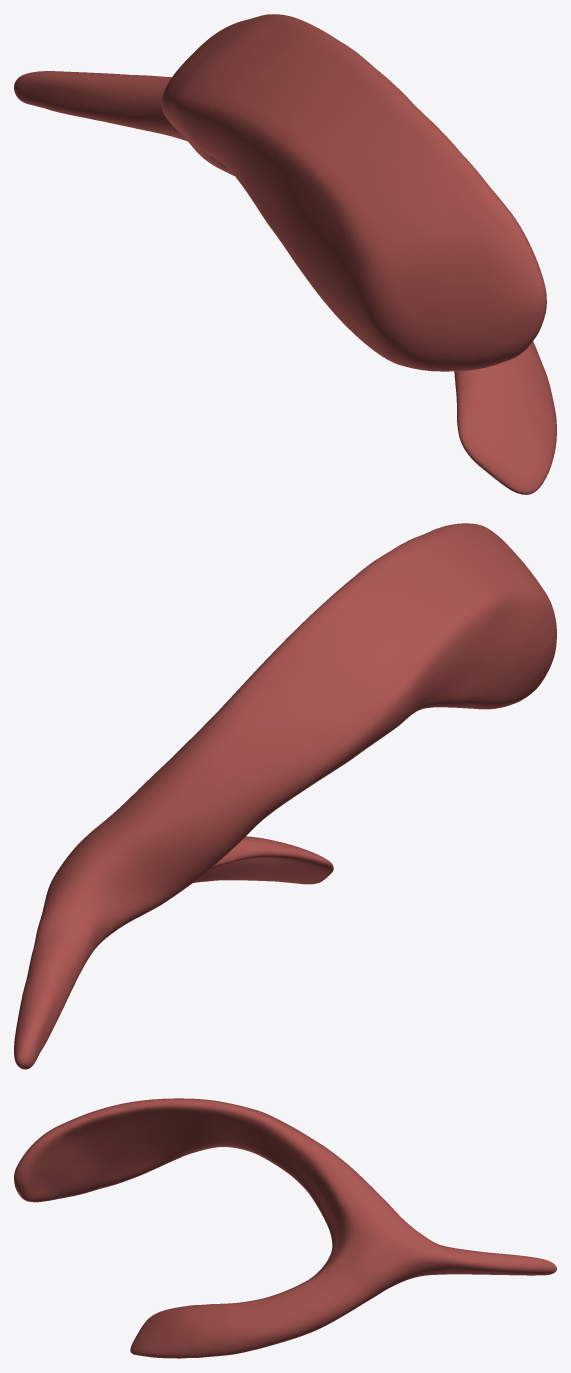
Rendered from FMA78450.glb.
3 views of the same model, one above another, from view 1: azimuth 30°, elevation 25°; view 2: azimuth 150°, elevation 25°; view 3: azimuth 270°, elevation 25° (orthographic). The views are drawn at different scales.
Visible parts, largest first — view 1: FMA78450; view 2: FMA78450; view 3: FMA78450.
Boxes of the visible parts, x1,y1,x2,y2 form: FMA78450: [14, 14, 556, 494]; FMA78450: [14, 523, 556, 1069]; FMA78450: [14, 1098, 556, 1358].
Size of the model in its own units: 0.0364 by 0.0463 by 0.1031.
